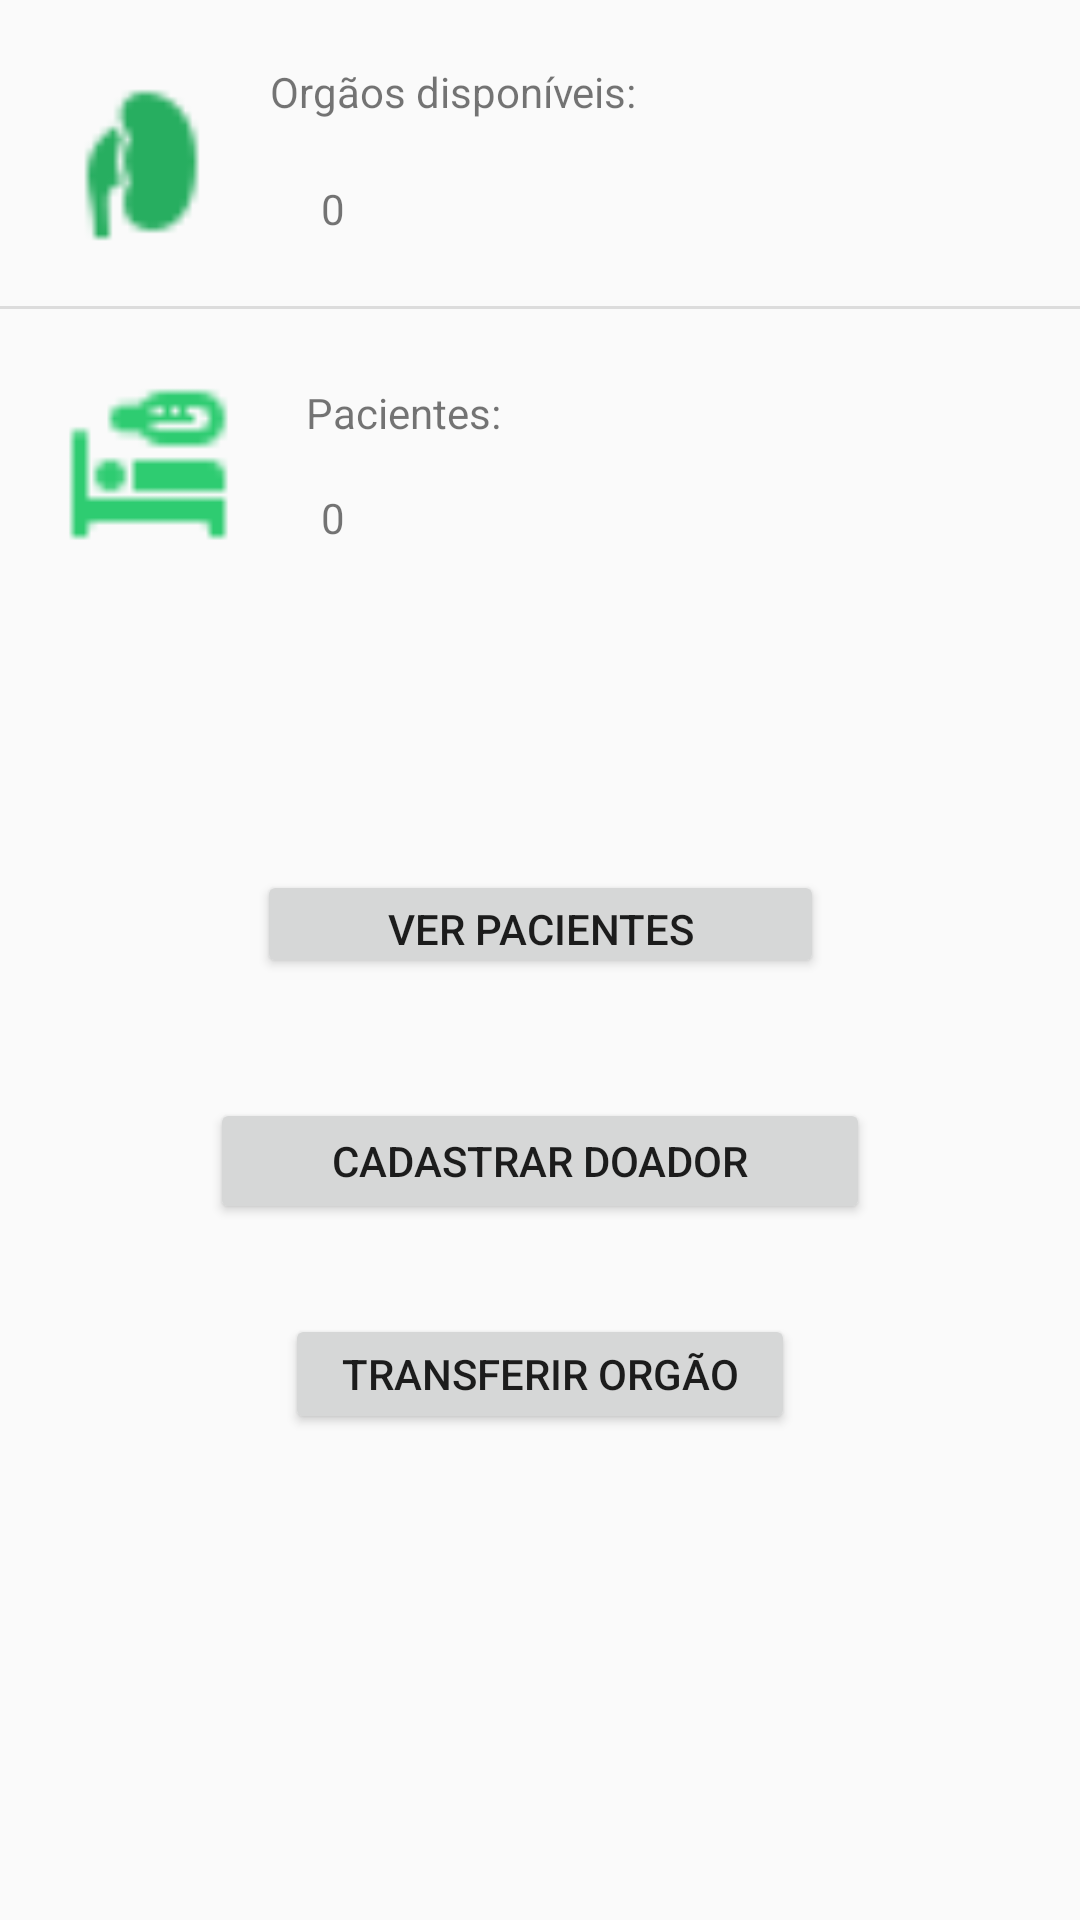

Icon bounding boxes for this 1080px×1920px phone screenshot, format (x1, y1, x2, y2):
rim: (85, 90, 199, 240)
